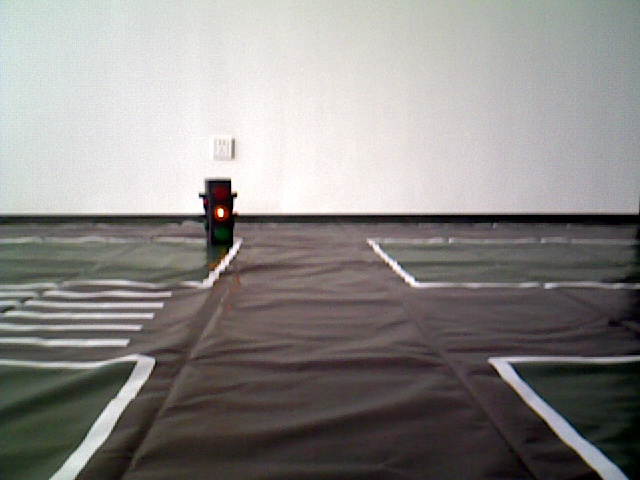yellow: (198, 173, 238, 248)
